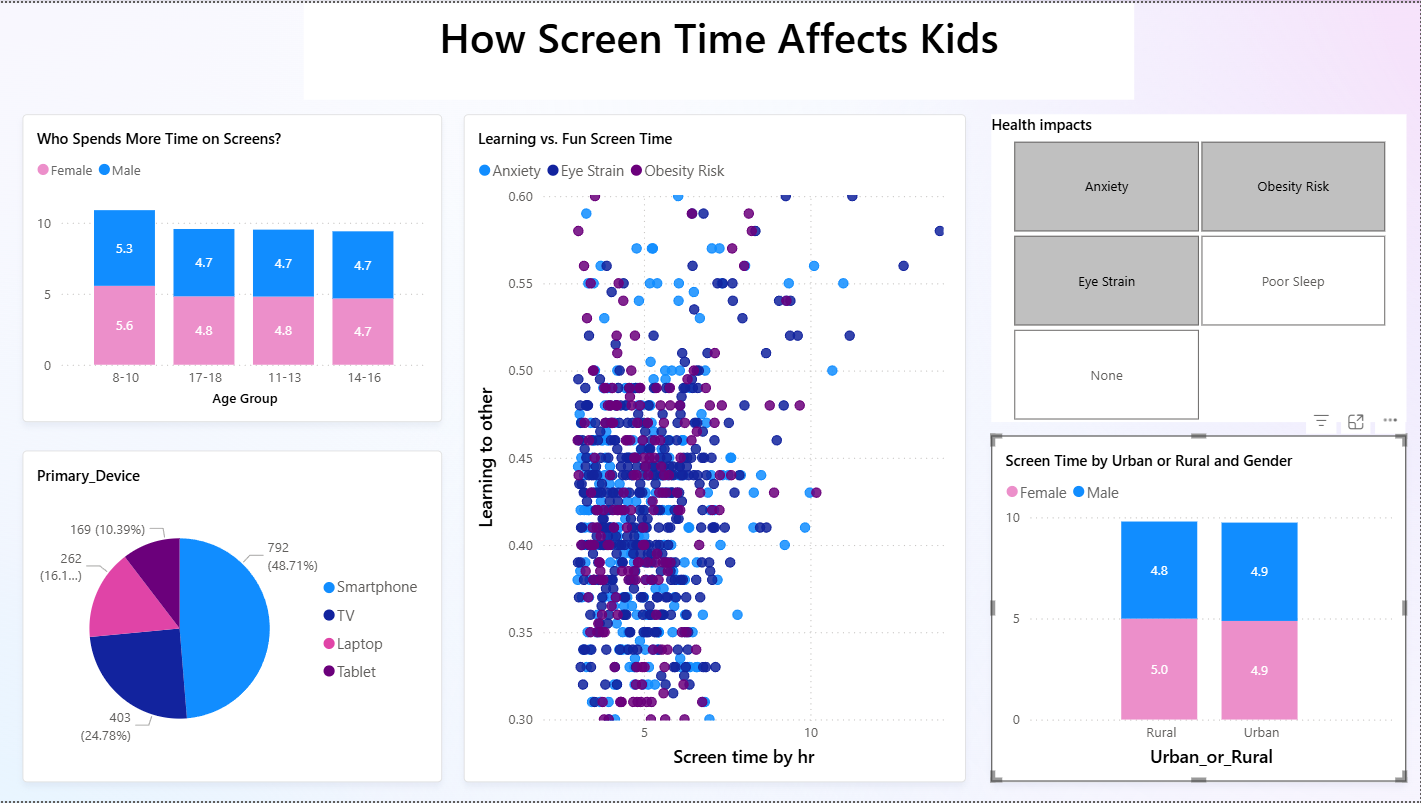

What the dashboard file says about the page in this screenshot:
{"tool":"powerbi","page":{"name":"Page 1","canvas":[1280,720],"ordinal":0},"visuals":[{"type":"columnChart","title":"Who Spends More Time on Screens?","fields":{"Category":["Indian_Kids_Screen_Time.Age Group"],"Y":["Indian_Kids_Screen_Time.Avg Screen Time"],"Series":["Indian_Kids_Screen_Time.Gender"]},"box":[20.3,100.3,378.7,277.3],"z":0},{"type":"pieChart","title":"Primary_Device","fields":{"Category":["Indian_Kids_Screen_Time.Primary_Device"],"Y":["CountNonNull(Indian_Kids_Screen_Time.Primary_Device)"]},"box":[20.6,403.4,378.7,299.1],"z":1000},{"type":"scatterChart","title":"Learning vs. Fun Screen Time","fields":{"X":["Indian_Kids_Screen_Time.Avg_Daily_Screen_Time_hr"],"Y":["Median(Indian_Kids_Screen_Time.Educational_to_Recreational_Ratio)"],"Series":["Indian_Kids_Screen_Time.Health_Impacts.1"]},"box":[418.5,100.2,452.8,602.4],"z":2000},{"type":"columnChart","title":"Screen Time by Urban or Rural and Gender","fields":{"Category":["Indian_Kids_Screen_Time.Urban_or_Rural"],"Y":["Indian_Kids_Screen_Time.Avg Screen Time"],"Series":["Indian_Kids_Screen_Time.Gender"]},"box":[893.3,389.7,374.6,312.9],"z":3000},{"type":"textbox","box":[274,0,748.9,86.8],"z":4000},{"type":"slicer","title":"Health impacts","fields":{"Values":["Indian_Kids_Screen_Time.Health_Impacts.1"]},"box":[893.6,100.4,374.5,277.4],"z":5000}]}

Visuals, with their boxes in screenshot pixels (x1, y1, x2, y2), scaled from the page's 1280x720 canvas onto the 1421x803 screenshot:
"Who Spends More Time on Screens?" columnChart: box(23, 112, 443, 421)
"Primary_Device" pieChart: box(23, 450, 443, 783)
"Learning vs. Fun Screen Time" scatterChart: box(465, 112, 967, 784)
"Screen Time by Urban or Rural and Gender" columnChart: box(992, 435, 1408, 784)
textbox: box(304, 0, 1136, 97)
"Health impacts" slicer: box(992, 112, 1408, 421)
